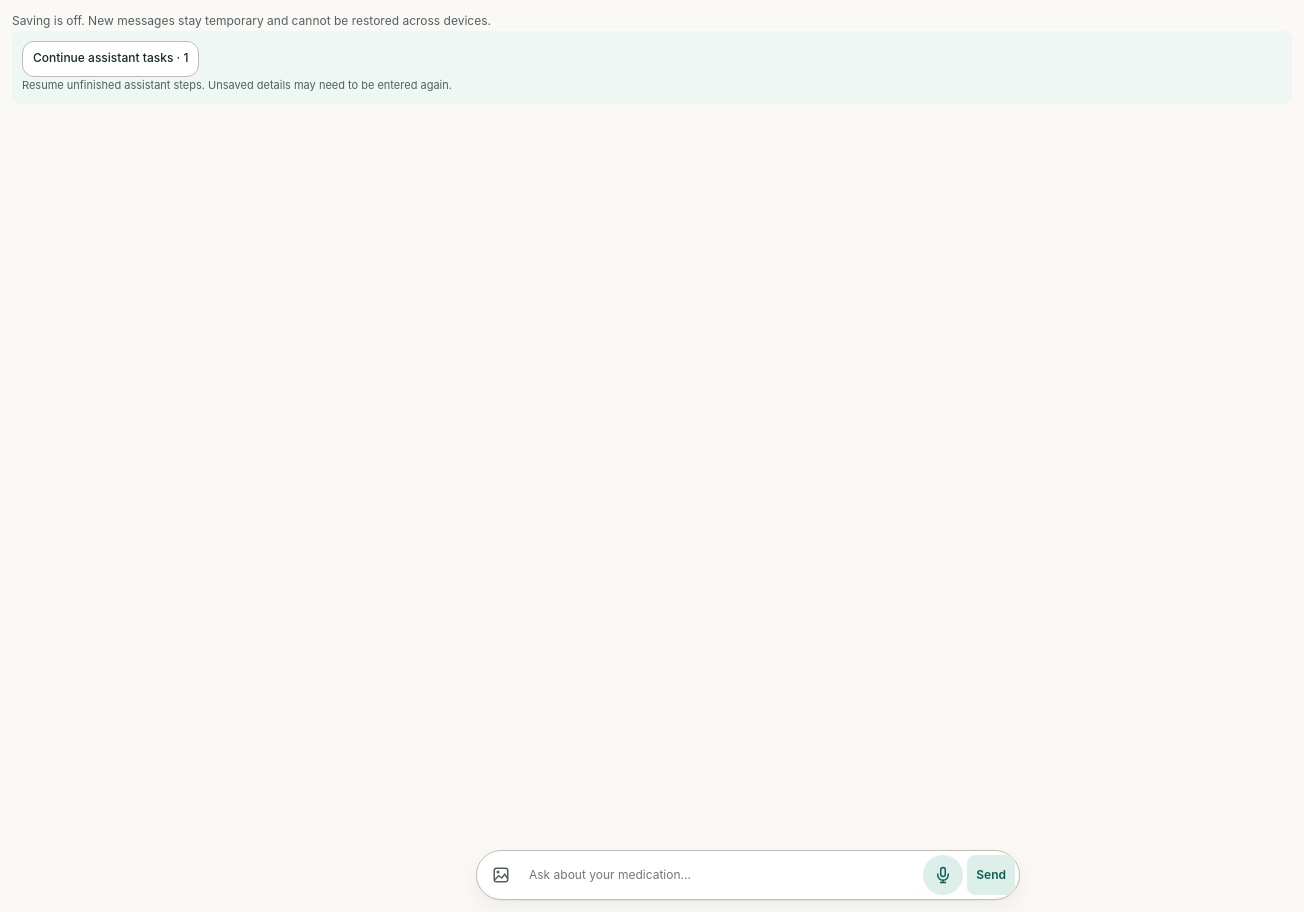
Test: explains no-save refresh loss without pretending its photo or fields were recovered
The image size is (1304, 912).
Click the button "Continue assistant tasks · 1" at {"x": 111, "y": 59}, box [22, 41, 199, 77]
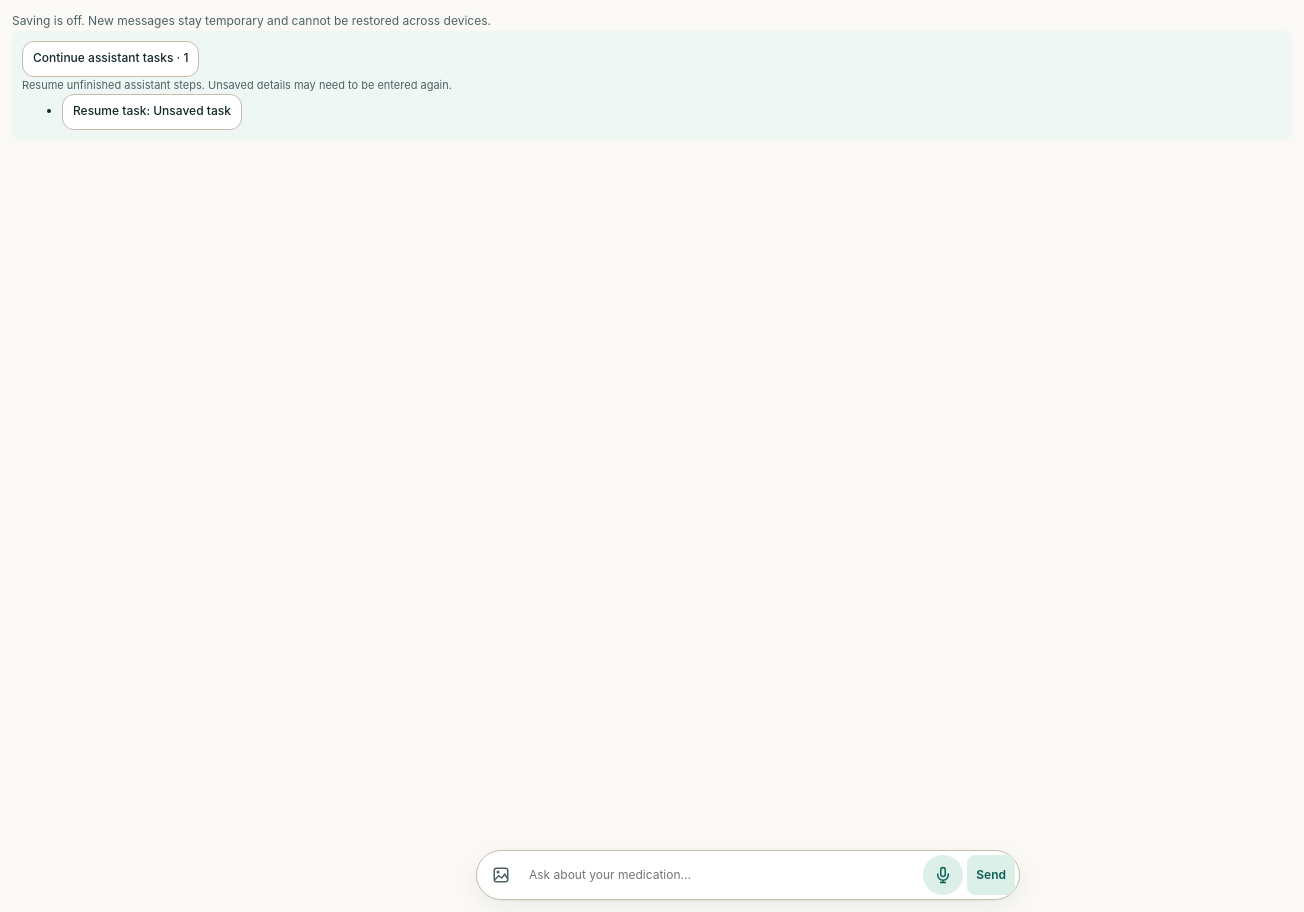
Click the button "Resume task: Unsaved task" at {"x": 152, "y": 112}, box [62, 94, 242, 130]
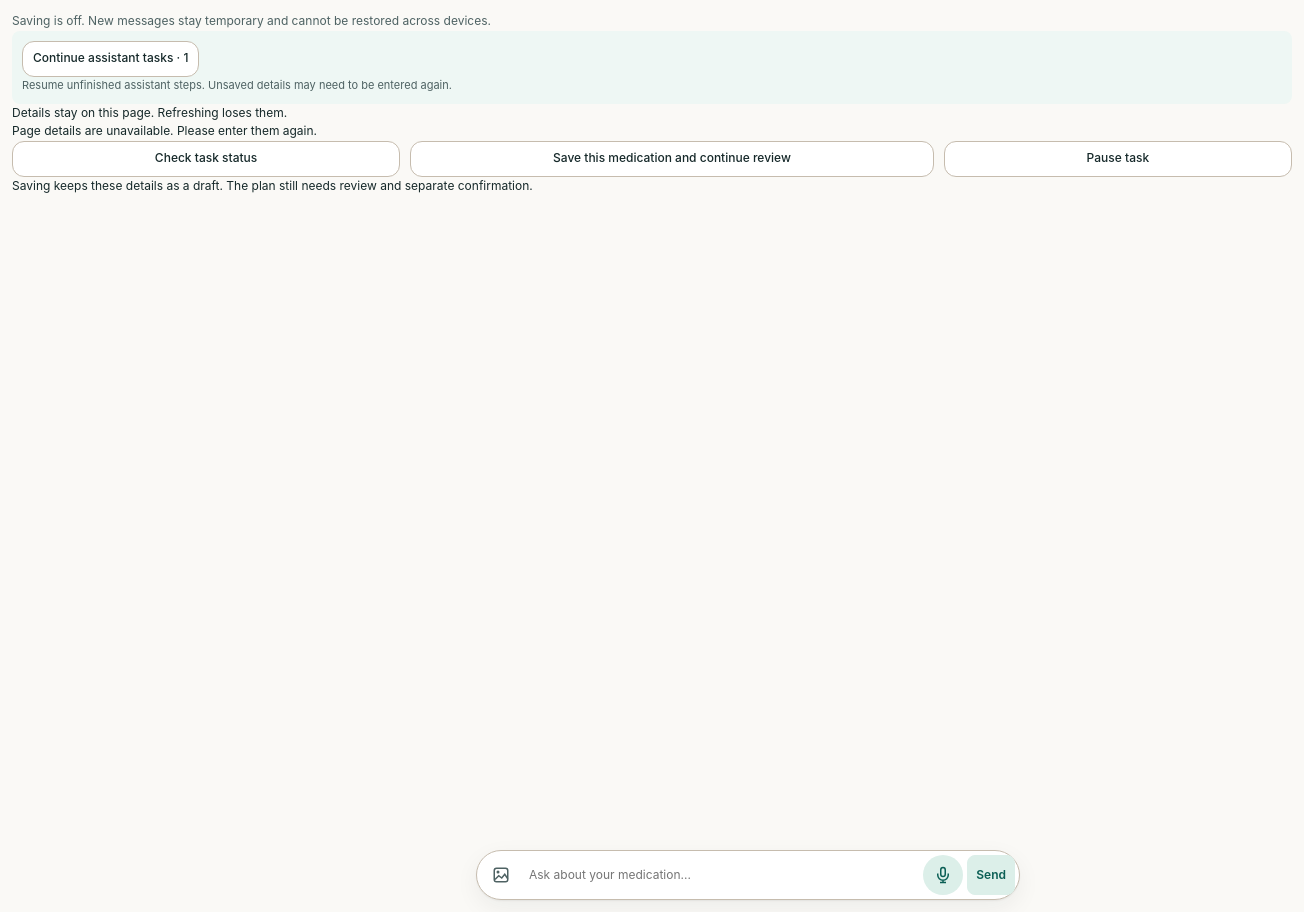
Result: the text "Page details are unavailable. Please enter them again." is shown at [12, 123, 317, 138]
